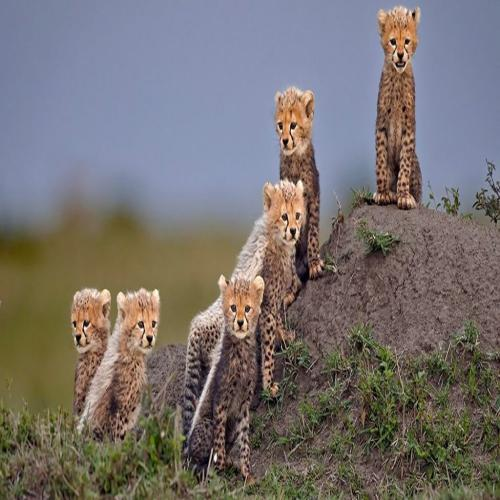cheetah-endangered: (188, 176, 304, 401), (180, 278, 264, 475), (81, 291, 160, 437), (376, 7, 423, 207), (274, 85, 321, 274), (70, 287, 110, 410)
